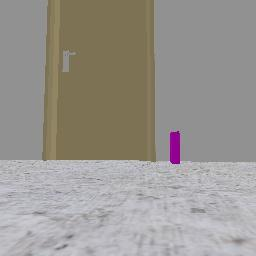mov: (170, 131, 179, 163)
